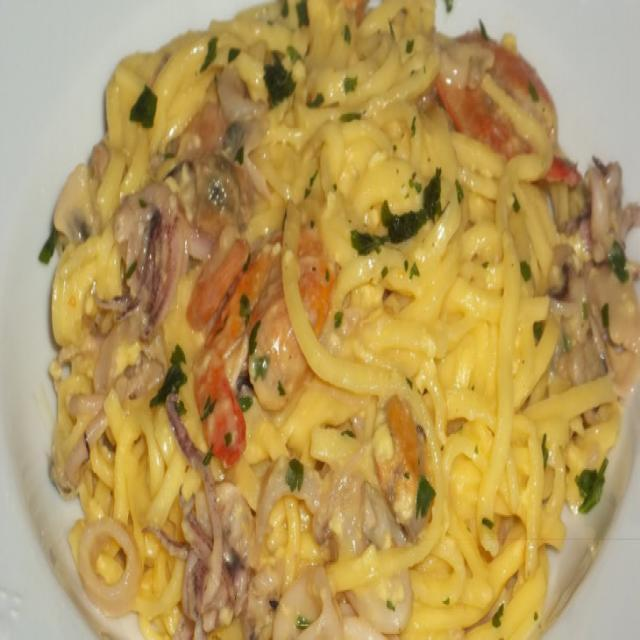Pasta with carbonara sauce: (37, 11, 640, 629)
